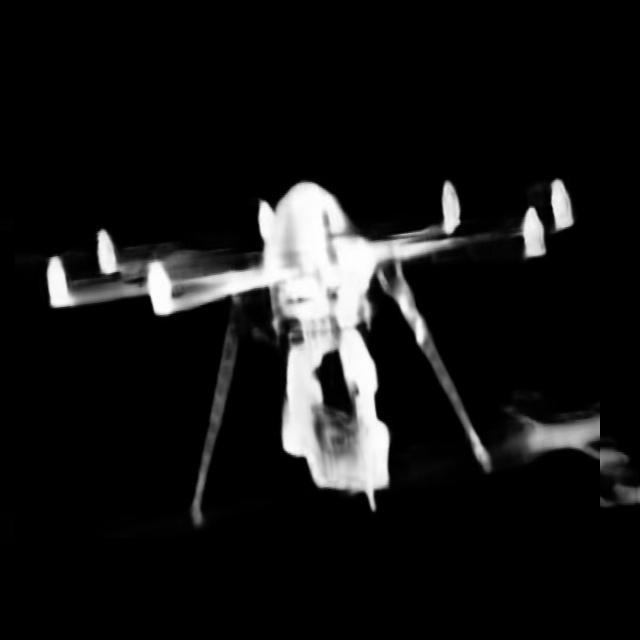drone: (14, 151, 600, 538)
